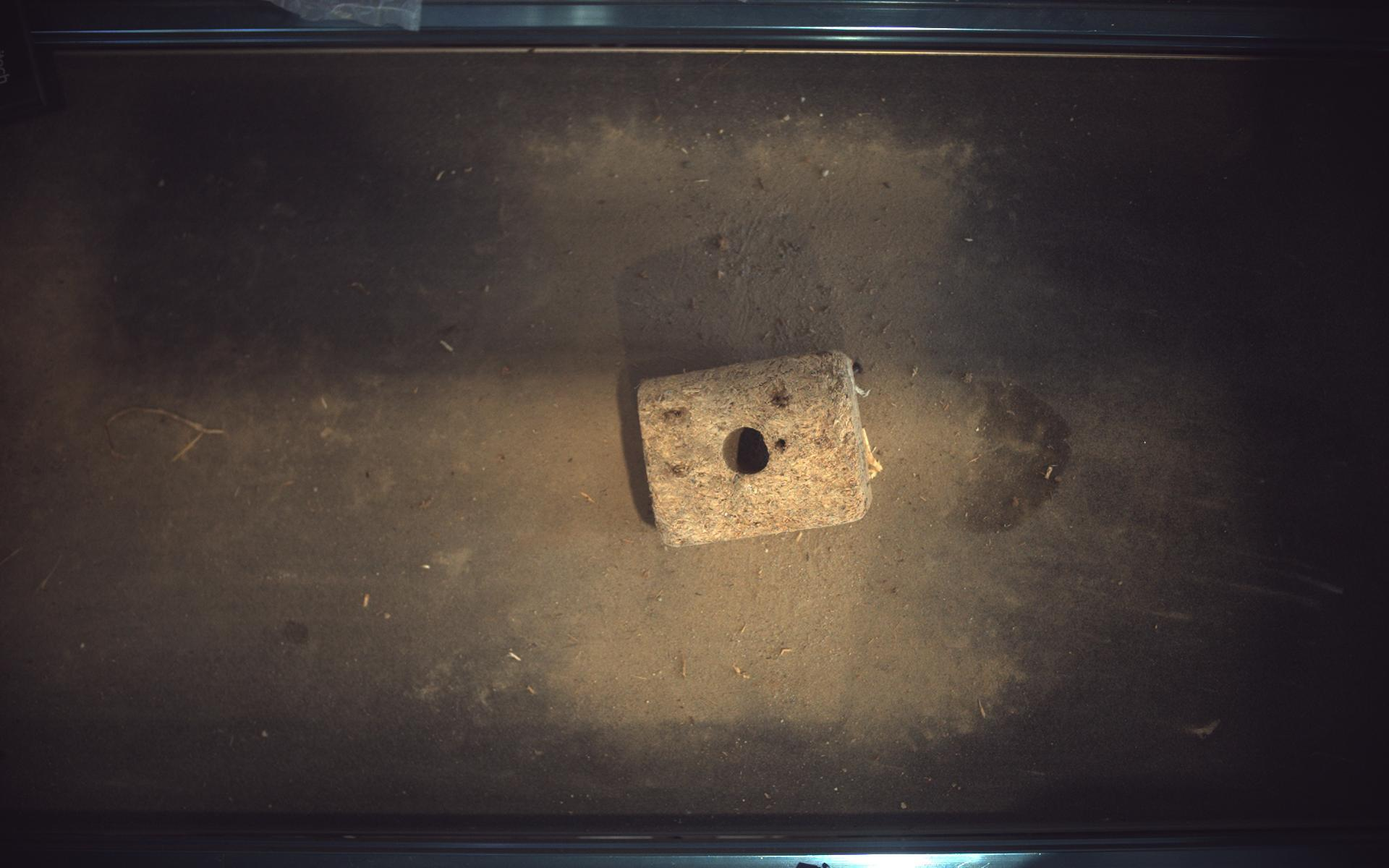wood: (640, 352, 881, 547)
